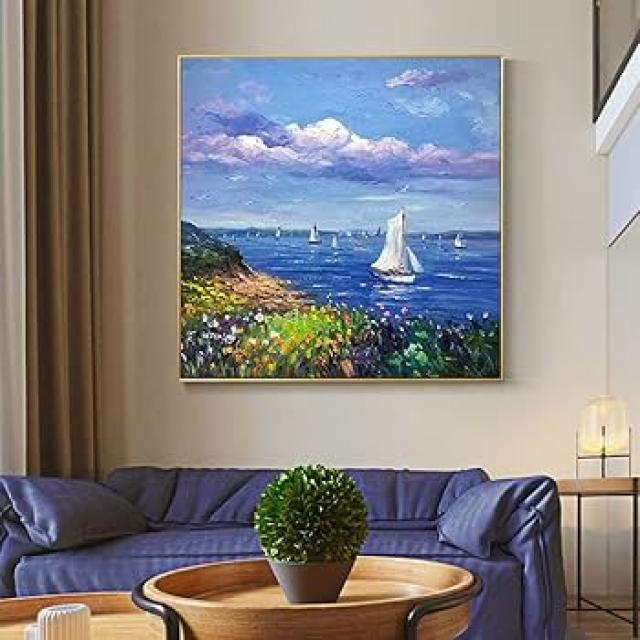painting: (177, 52, 506, 381)
